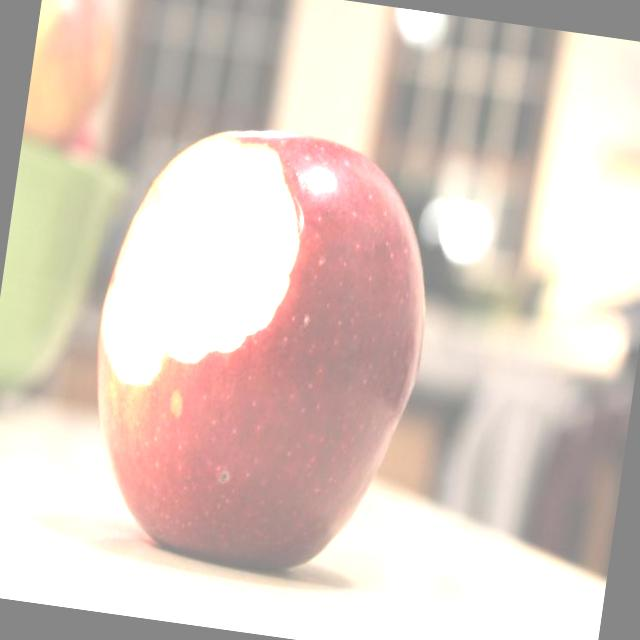Apple: (69, 108, 451, 589), (21, 0, 126, 153)
